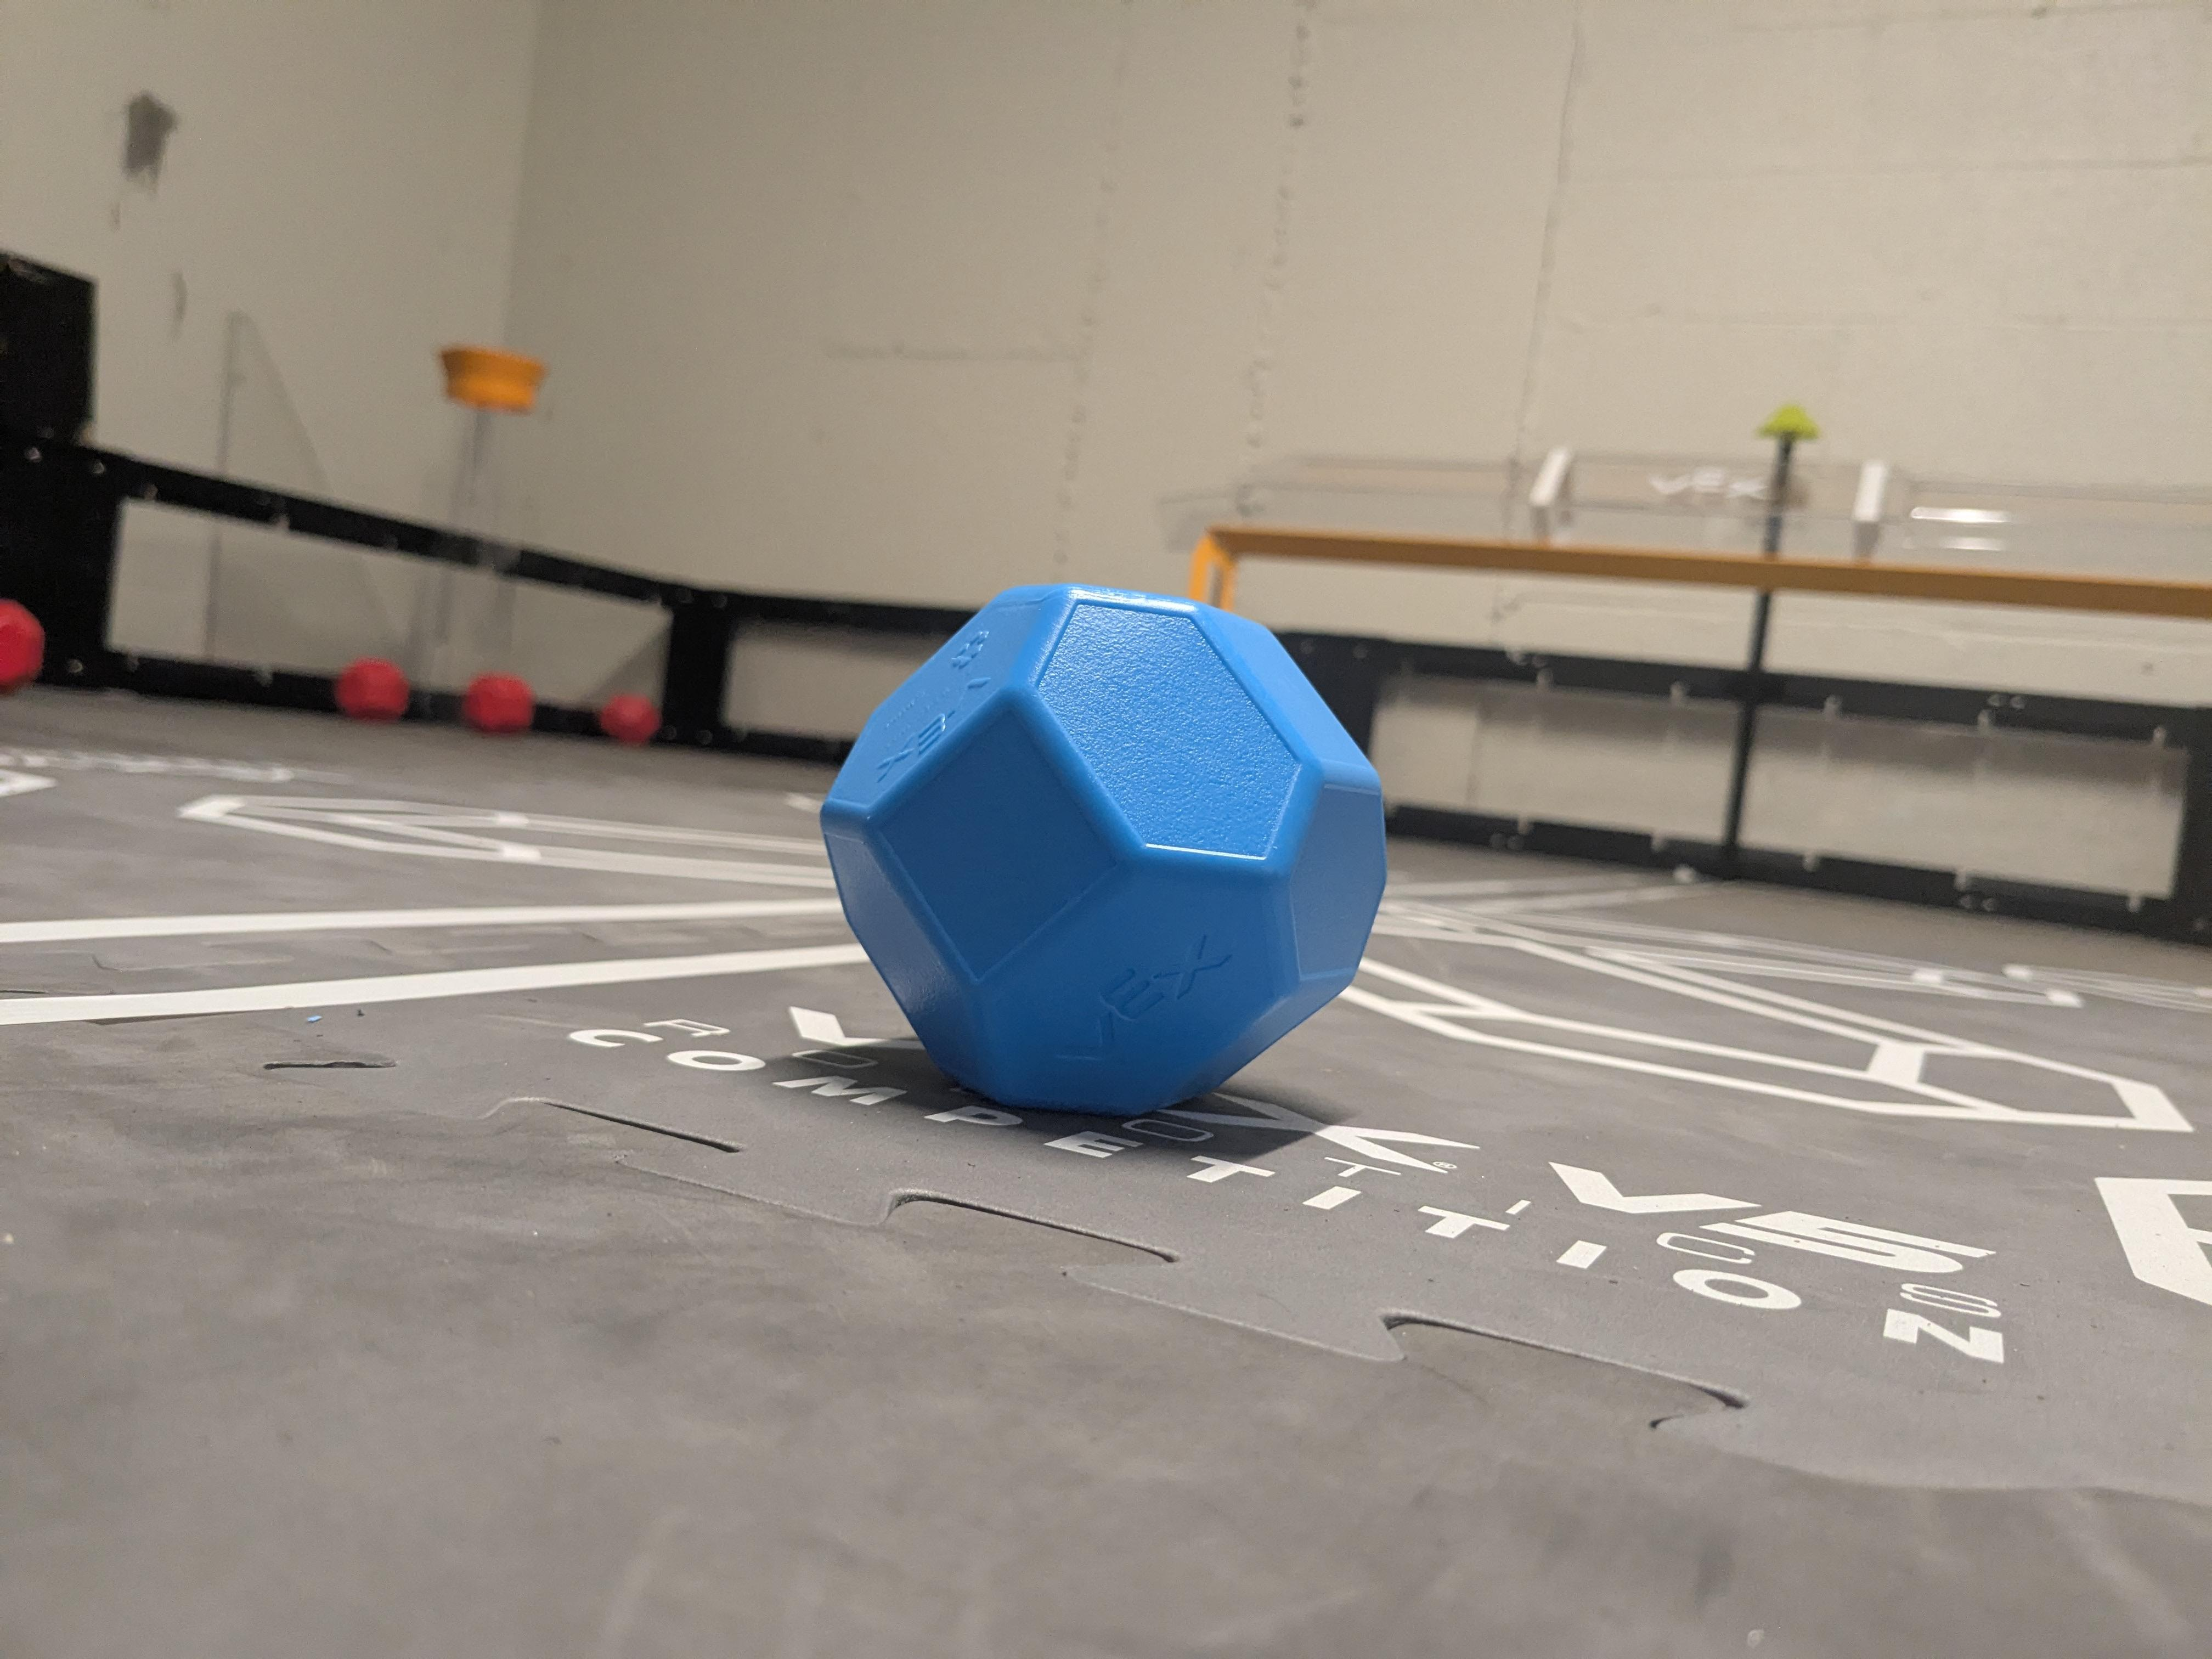Vex-Pieces-BLUE: (829, 580, 1390, 1131)
